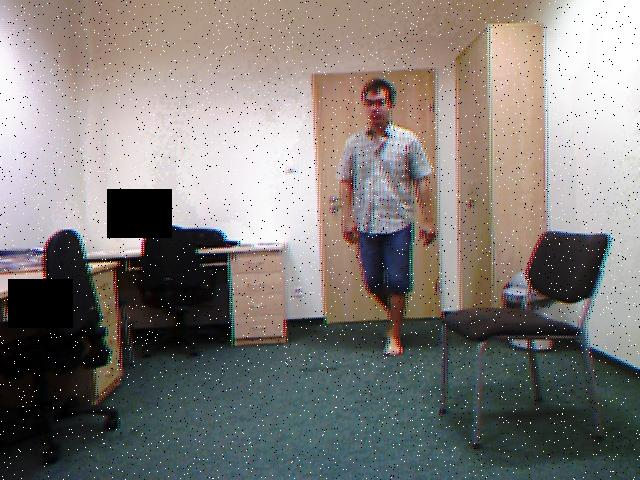walking: (336, 68, 447, 358)
